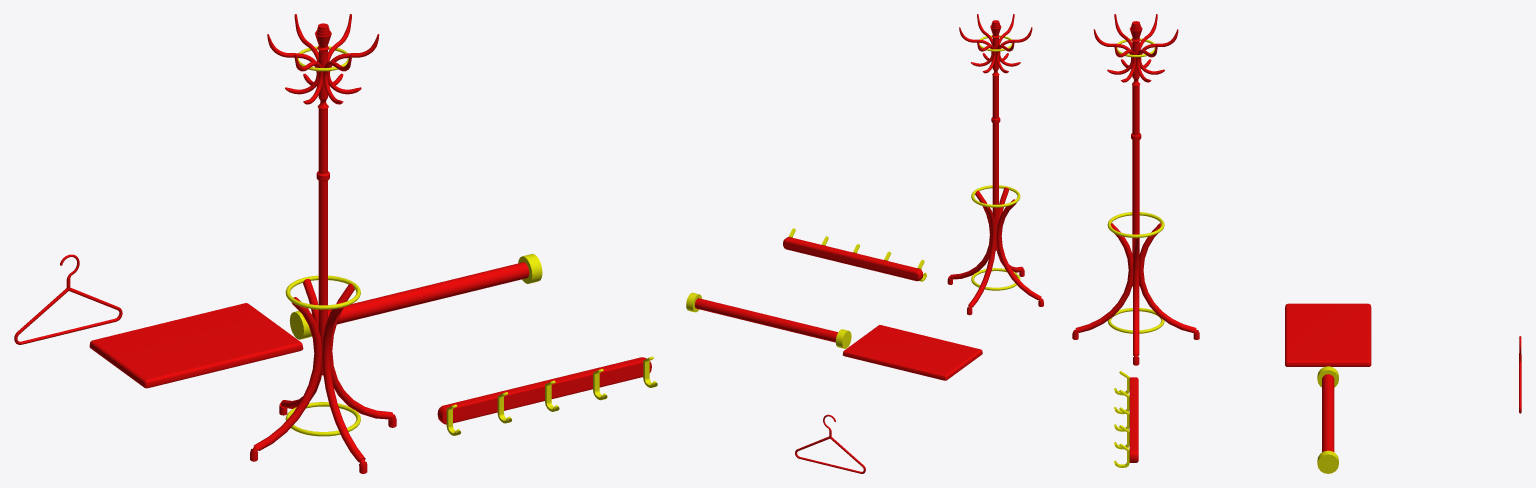
The model's file is entryway_props_grp.fbx.
3 views of the same model, side by side, from view 1: azimuth 30°, elevation 25°; view 2: azimuth 150°, elevation 25°; view 3: azimuth 270°, elevation 25° (orthographic). The views are drawn at different scales.
Parts seen in each view (by area): view 1: coat_rack, doormat, wall_rack, closet_bar, coat_hanger; view 2: coat_rack, doormat, wall_rack, closet_bar, coat_hanger; view 3: coat_rack, doormat, closet_bar, wall_rack.
Part boxes in pixels (x1,y1,x2,y2): coat_rack: [250, 14, 396, 473]; doormat: [89, 303, 303, 388]; wall_rack: [437, 356, 657, 435]; closet_bar: [289, 253, 542, 339]; coat_hanger: [14, 254, 122, 344]; coat_rack: [947, 14, 1043, 315]; doormat: [842, 325, 982, 380]; wall_rack: [783, 228, 926, 281]; closet_bar: [686, 292, 851, 348]; coat_hanger: [795, 414, 865, 473]; coat_rack: [1072, 14, 1199, 365]; doormat: [1285, 303, 1371, 366]; closet_bar: [1317, 366, 1338, 473]; wall_rack: [1114, 371, 1138, 467].
Size of the model in its own units: 191 by 214 by 234.
